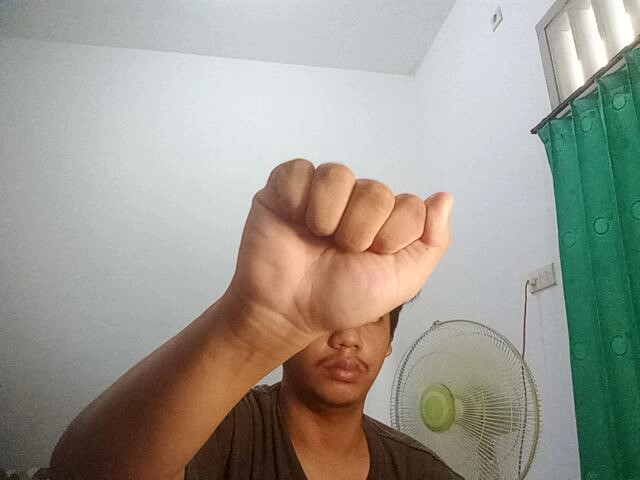A: (227, 151, 462, 334)
